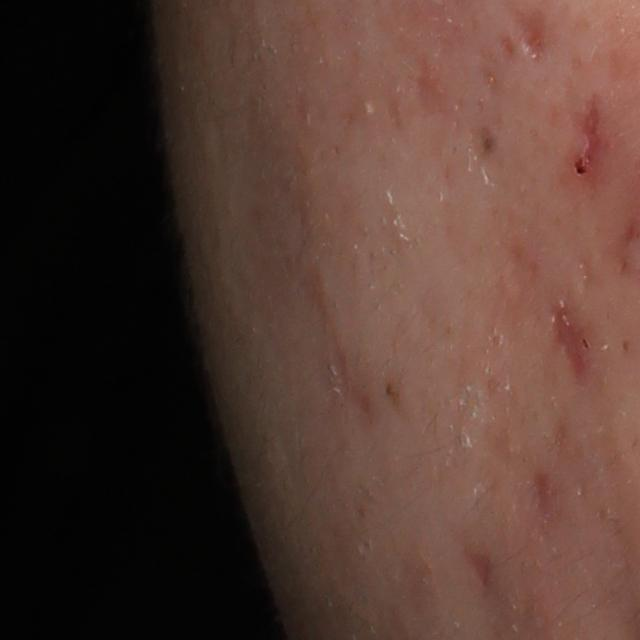atrophic_scar: (549, 306, 593, 385), (508, 10, 552, 64)
nevus: (482, 135, 498, 154)
